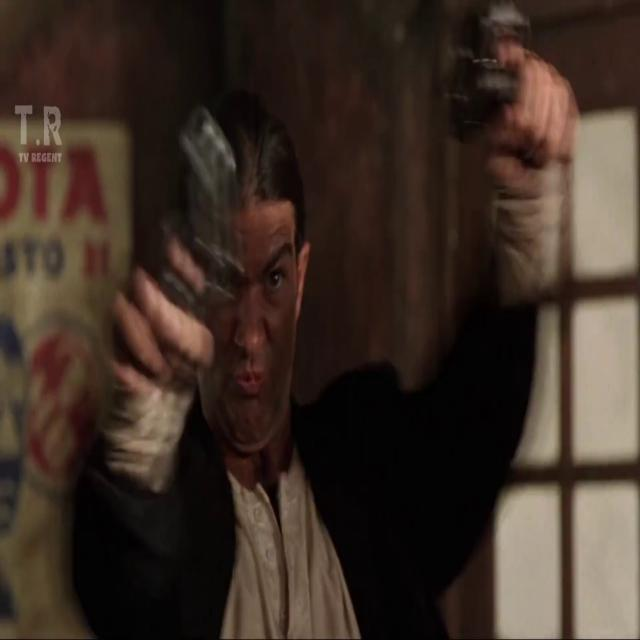handgun: (168, 73, 255, 369), (434, 2, 542, 190)
